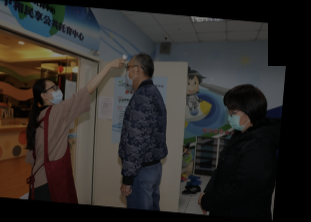with_mask: (225, 110, 246, 133), (46, 84, 64, 107), (123, 61, 136, 86)
